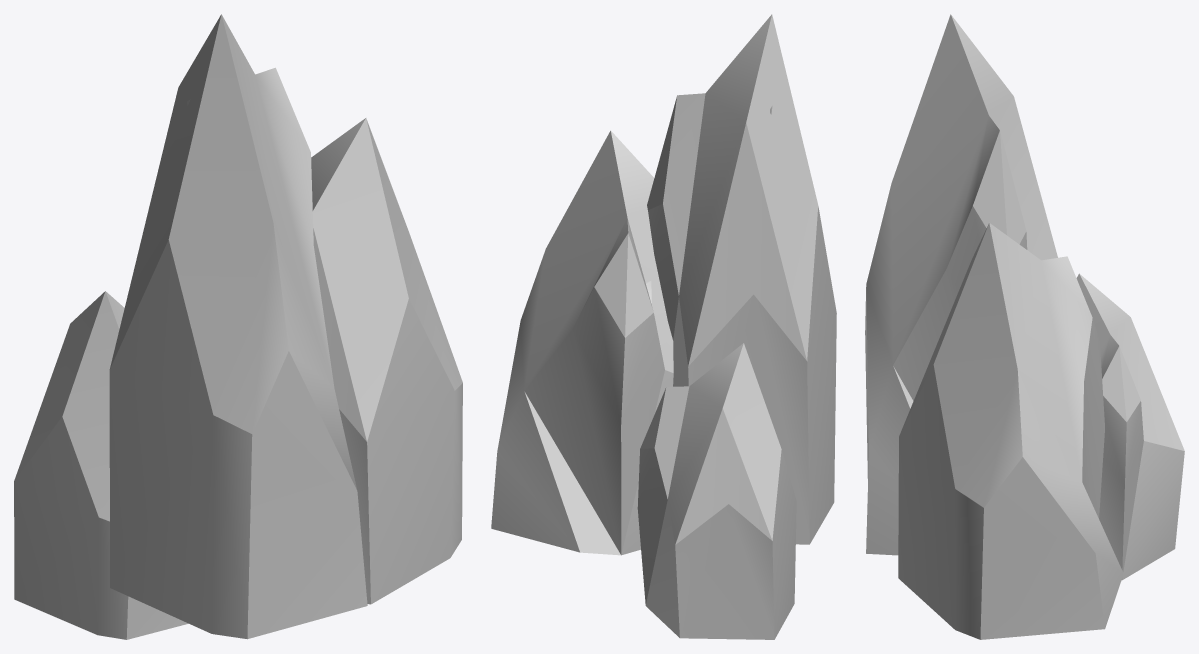
File: Rock3.fbx
3 renders of one model, left to right at view 1: azimuth 30°, elevation 25°; view 2: azimuth 150°, elevation 25°; view 3: azimuth 270°, elevation 25°, orthographic. The views are drawn at different scales.
Visible parts, largest first — view 1: Rock3_Outer2, Rock3_Outer1, Rock3_Outer3; view 2: Rock3_Outer2, Rock3_Outer1, Rock3_Outer3; view 3: Rock3_Outer1, Rock3_Outer2, Rock3_Outer3.
Part boxes in pixels (bbox=[...]): Rock3_Outer2: bbox=[109, 14, 367, 639]; Rock3_Outer1: bbox=[311, 118, 462, 604]; Rock3_Outer3: bbox=[14, 291, 188, 639]; Rock3_Outer2: bbox=[647, 14, 836, 544]; Rock3_Outer1: bbox=[491, 130, 673, 555]; Rock3_Outer3: bbox=[637, 343, 796, 639]; Rock3_Outer1: bbox=[898, 223, 1123, 639]; Rock3_Outer2: bbox=[865, 14, 1057, 555]; Rock3_Outer3: bbox=[1076, 273, 1184, 580].
Size of the model in its own units: 0.0372 by 0.0621 by 0.0327.
